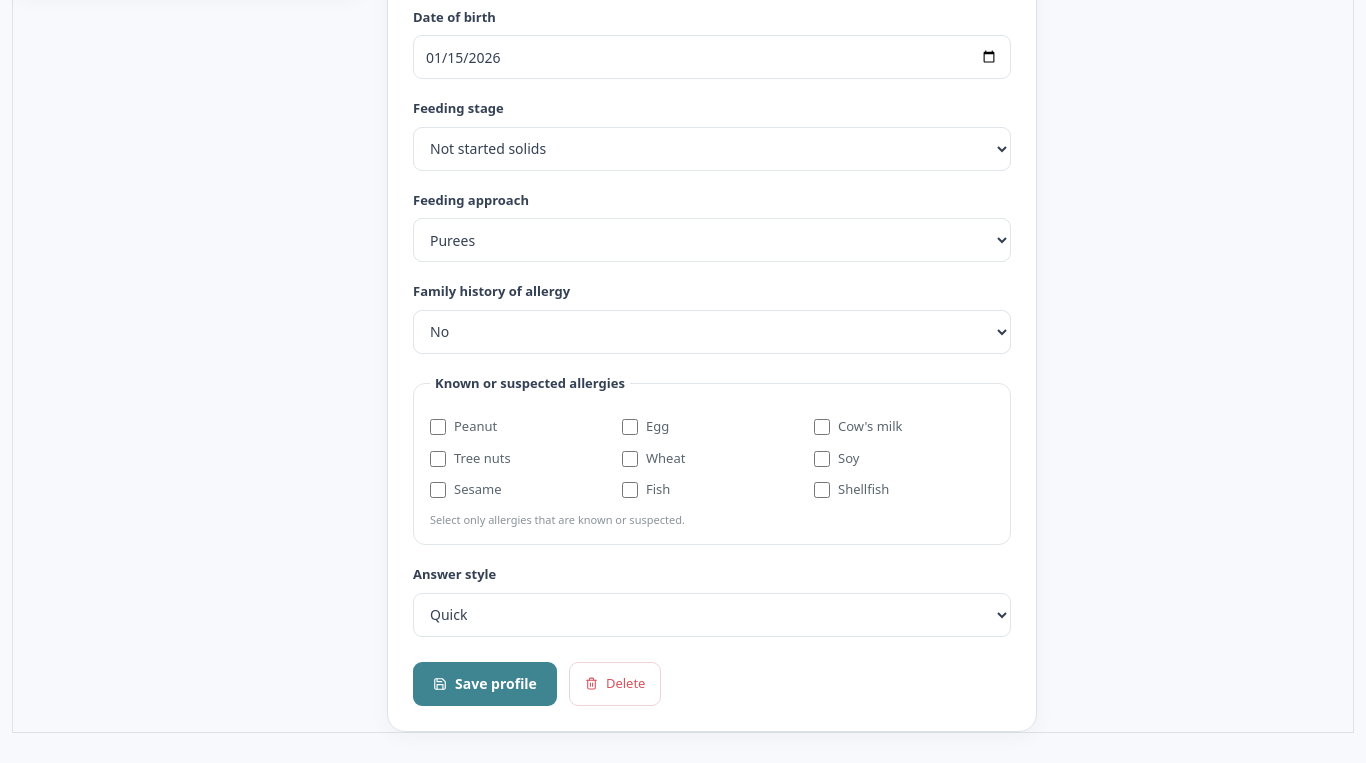
Scenario: Profile Page › deletes a profile after confirmation
(page scrolled)
What coordinates should you click on to do the following:
click the button "Delete"
I would click on:
 (615, 684)
Its box is [569,662,661,706].
(page scrolled)
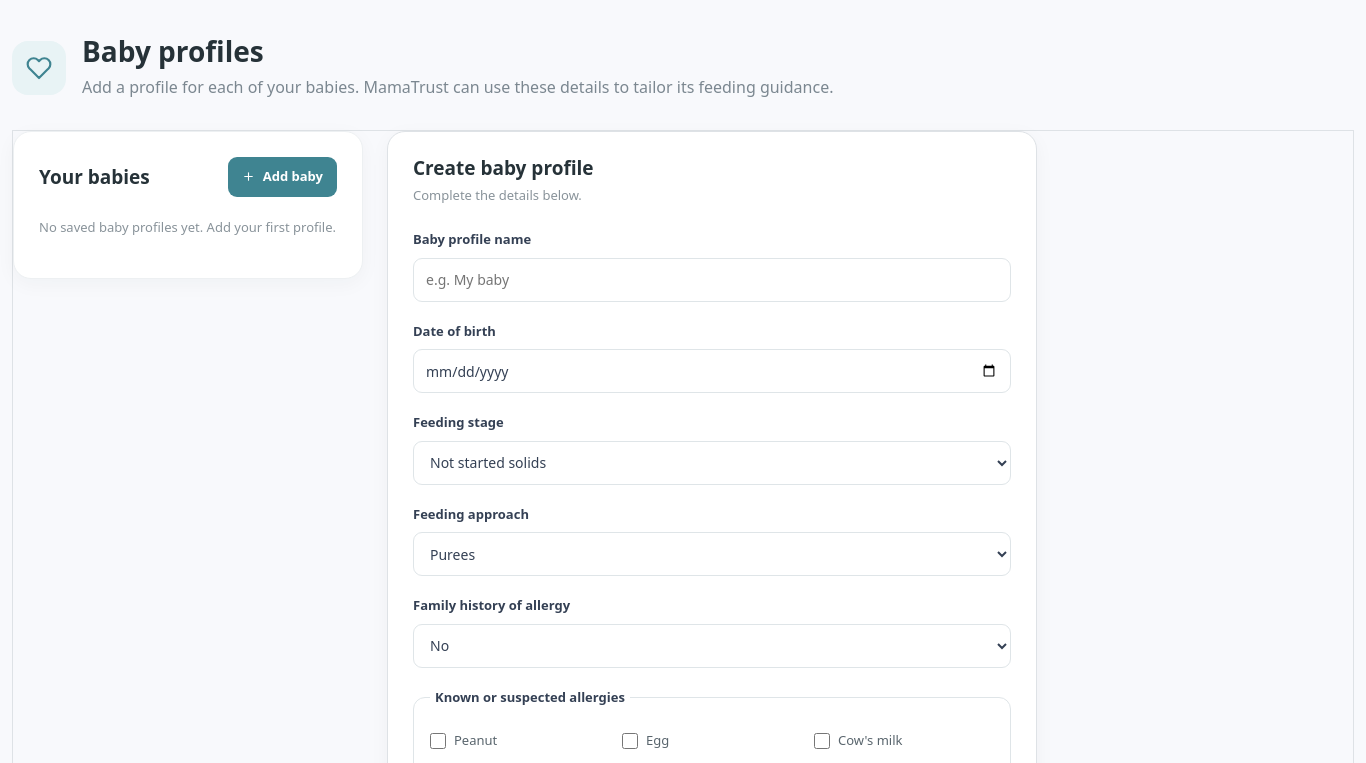
Result: the text "No saved baby profiles yet. Add your first profile." is shown at [39,217,337,238]
